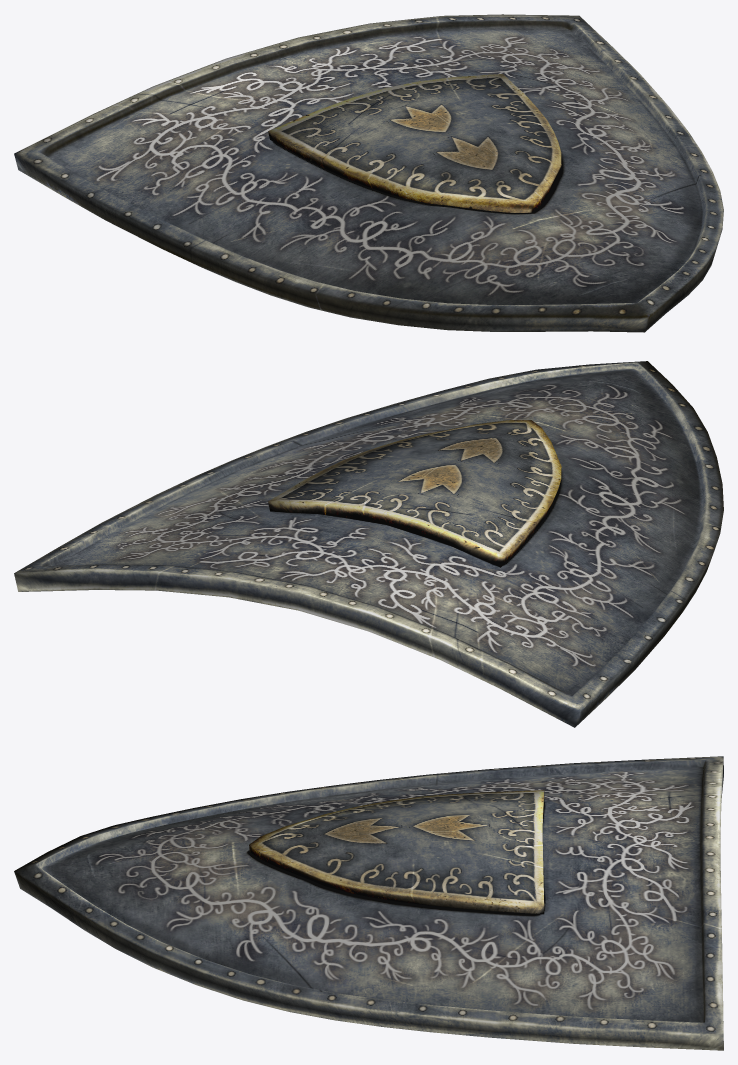
Rendered from Heater_B.FBX.
3 views of the same model, one above another, from view 1: azimuth 30°, elevation 25°; view 2: azimuth 150°, elevation 25°; view 3: azimuth 270°, elevation 25° (orthographic).
Visible parts, largest first — view 1: Heater_B; view 2: Heater_B; view 3: Heater_B.
Boxes of the visible parts, x1,y1,x2,y2 form: Heater_B: (14,14,723,332); Heater_B: (14,361,723,727); Heater_B: (14,756,723,1050).
Bounding box in the file's own units: 46.58 × 9.46 × 50.11.
